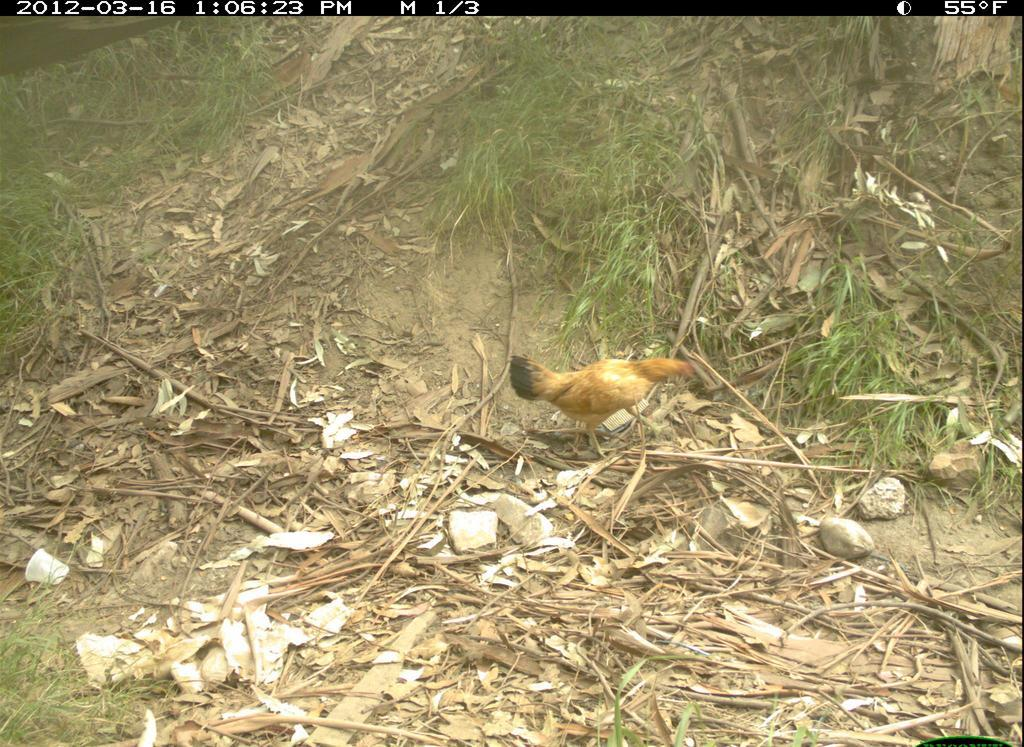bird: (506, 345, 711, 465)
